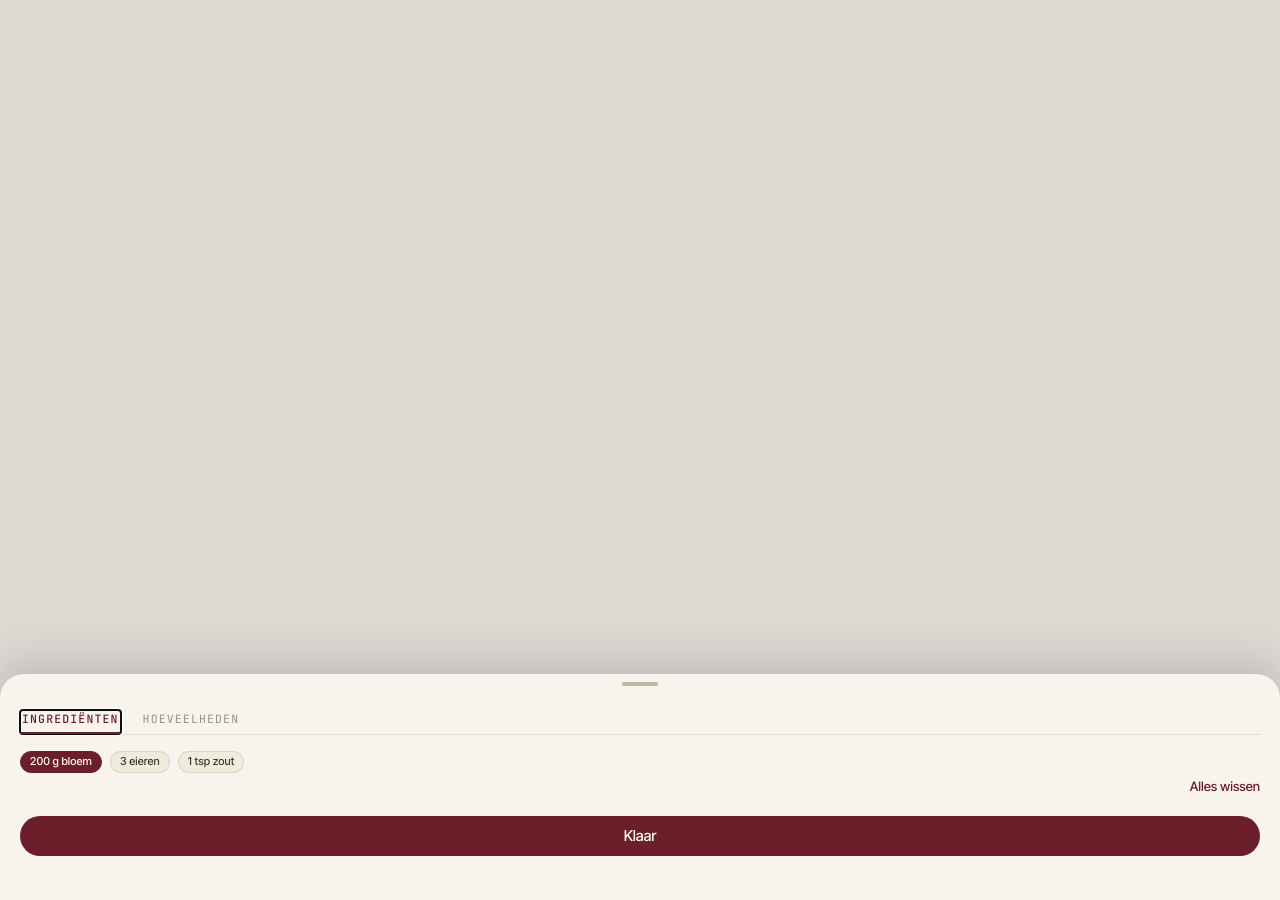
Test: IngredientPickerSheet › switches to the amounts tab when "Hoeveelheden" is clicked
The width and height of the screenshot is (1280, 900).
Click the button "Hoeveelheden".
click(191, 722)  # box [141,710,241,734]
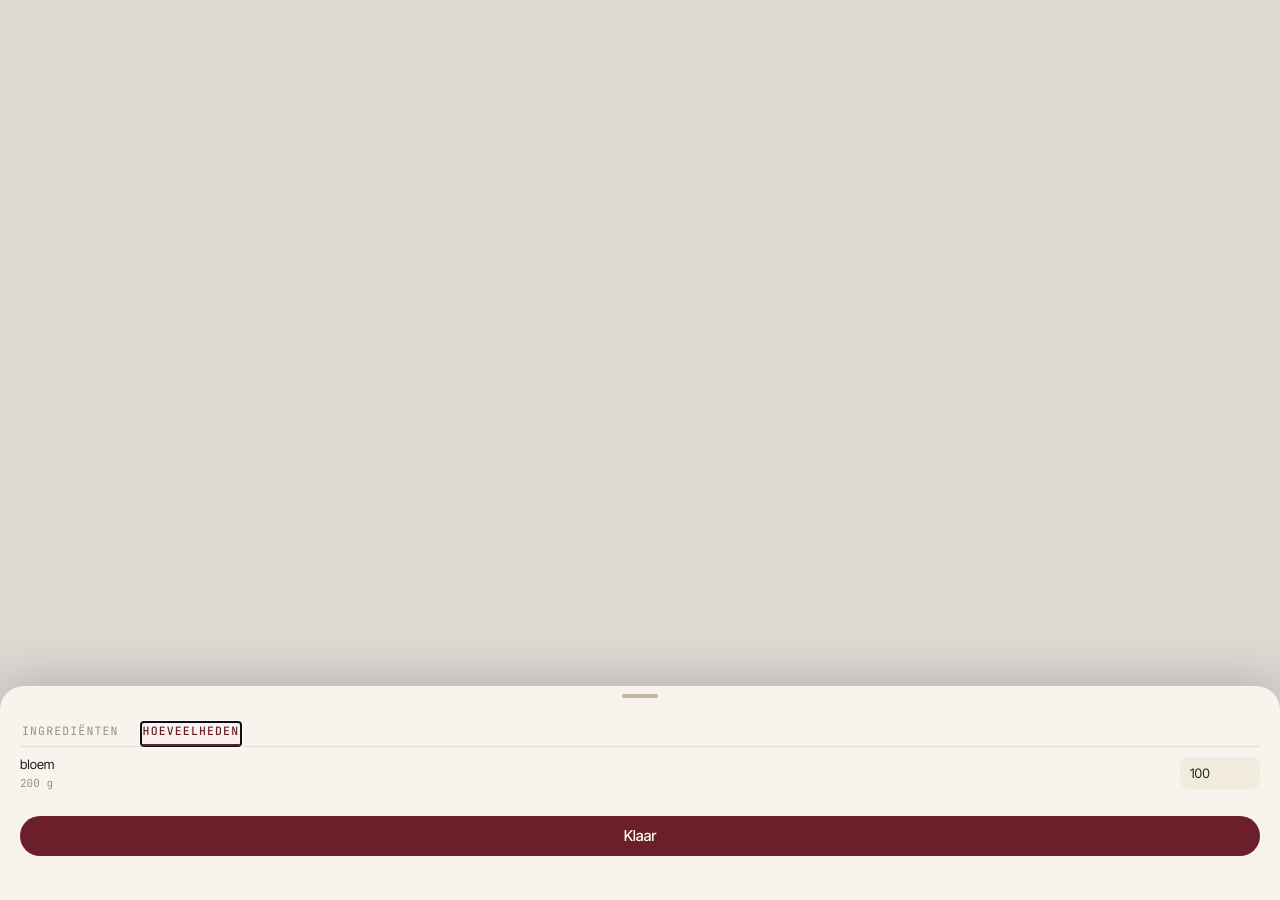
Check: the field showing "100" is shown, box [1180,757,1260,789]
